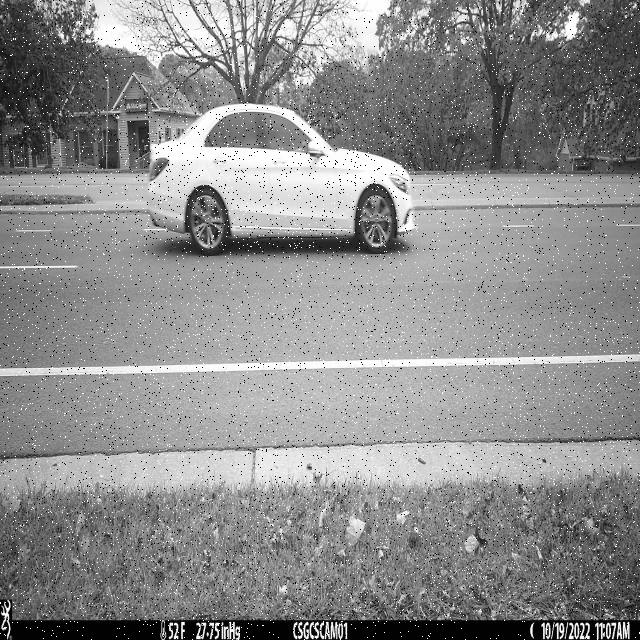Sedan: (146, 103, 417, 257)
